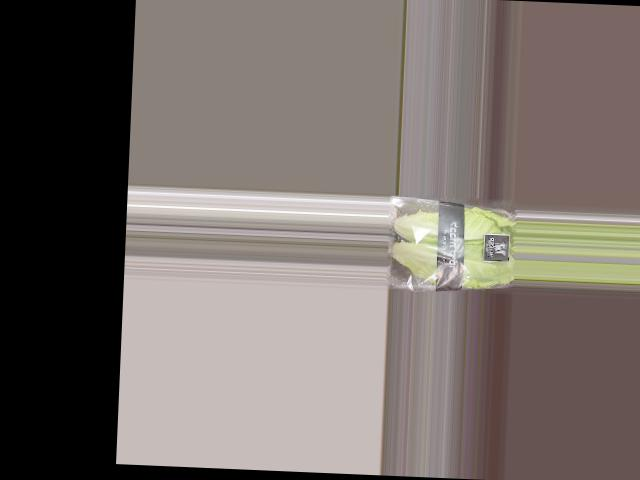lettuce: (385, 196, 516, 288)
